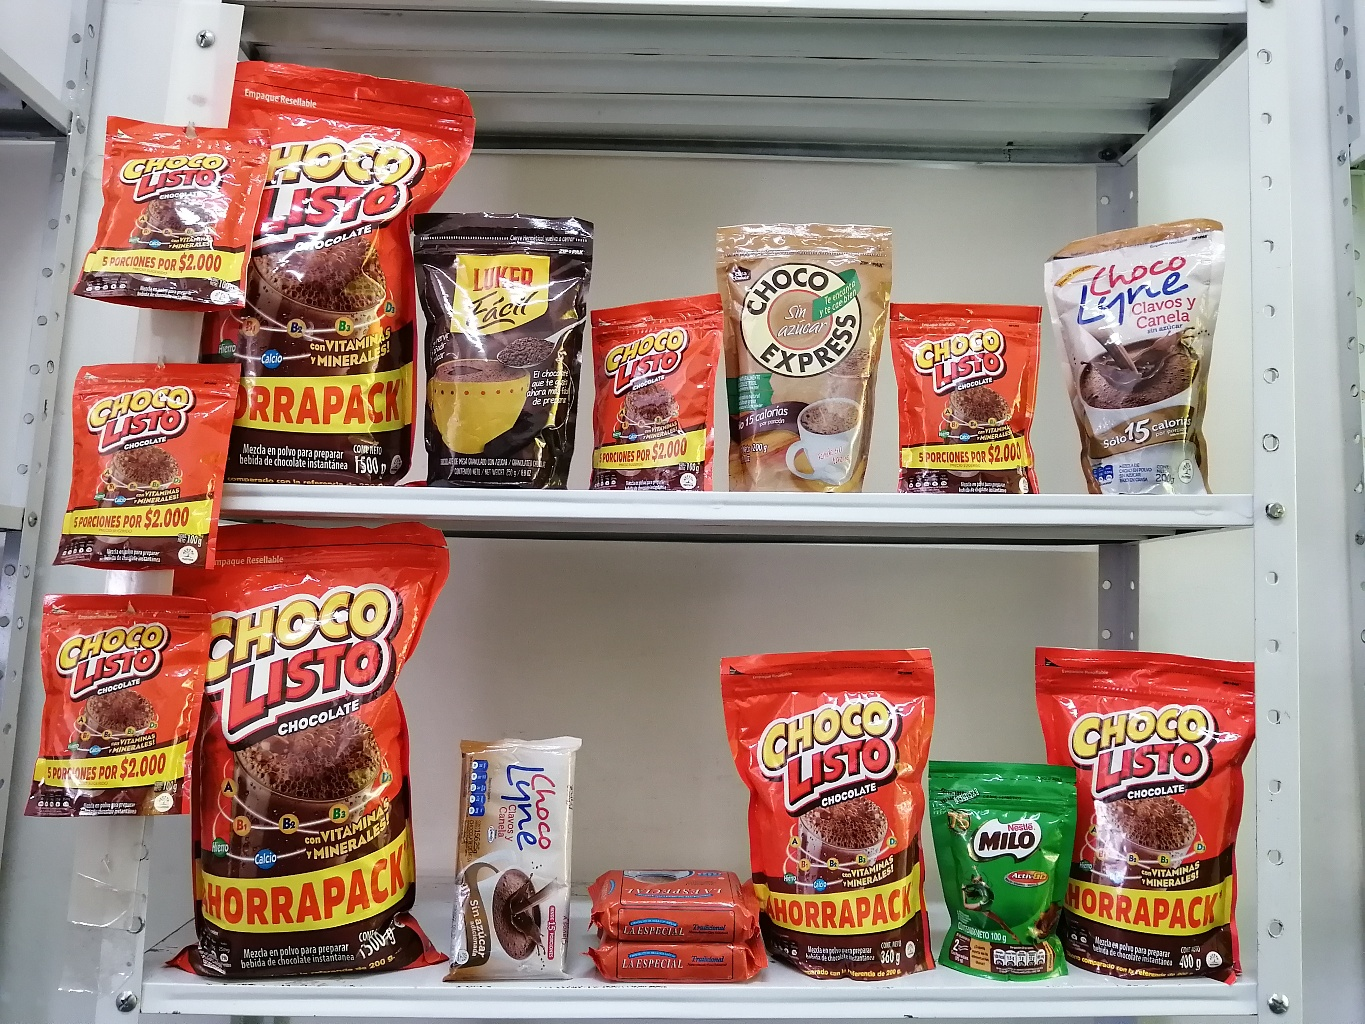COL0170103DYP1,500: (189, 520, 435, 977)
COL0170103DYP10000: (883, 287, 1046, 502)
COL0170103DYP36000: (721, 640, 949, 984)
COL0170103DYP40000: (1034, 631, 1253, 995)
COL0170203DYP10000: (929, 745, 1081, 990)
